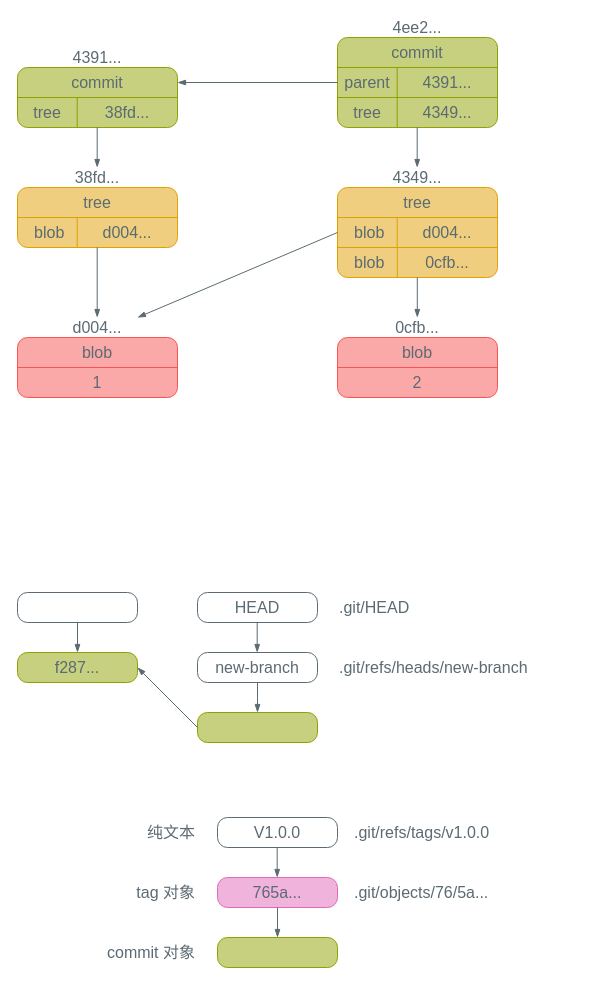
Image size: 595x985. Some labels were removed from this diagram. The box of each missing label's shape, as (x1, y1, x2, y2) in pixels:
b074...: (196, 712, 318, 742)
c388...: (216, 936, 338, 968)
master: (16, 592, 138, 622)
